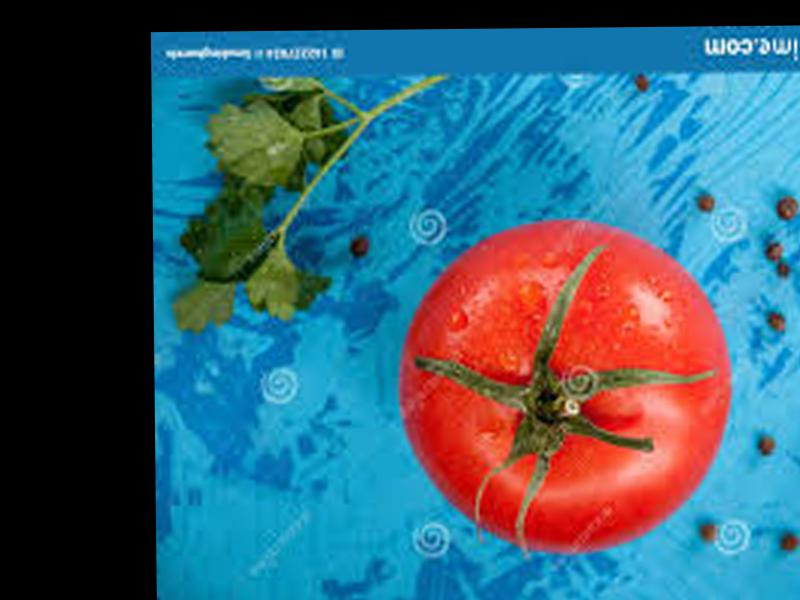Tomato: (396, 218, 732, 553)
